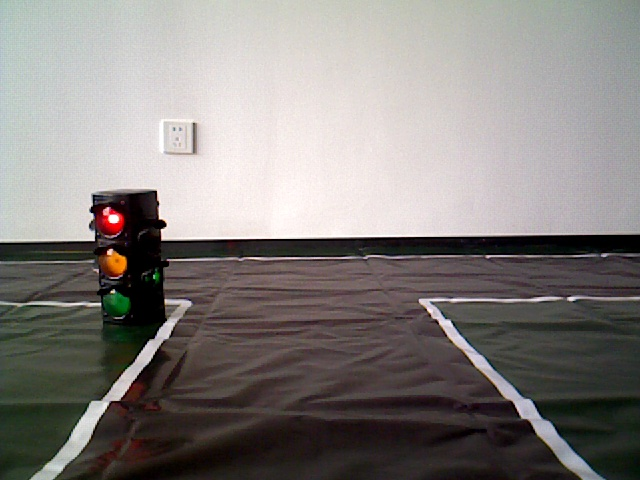red: (91, 193, 166, 325)
